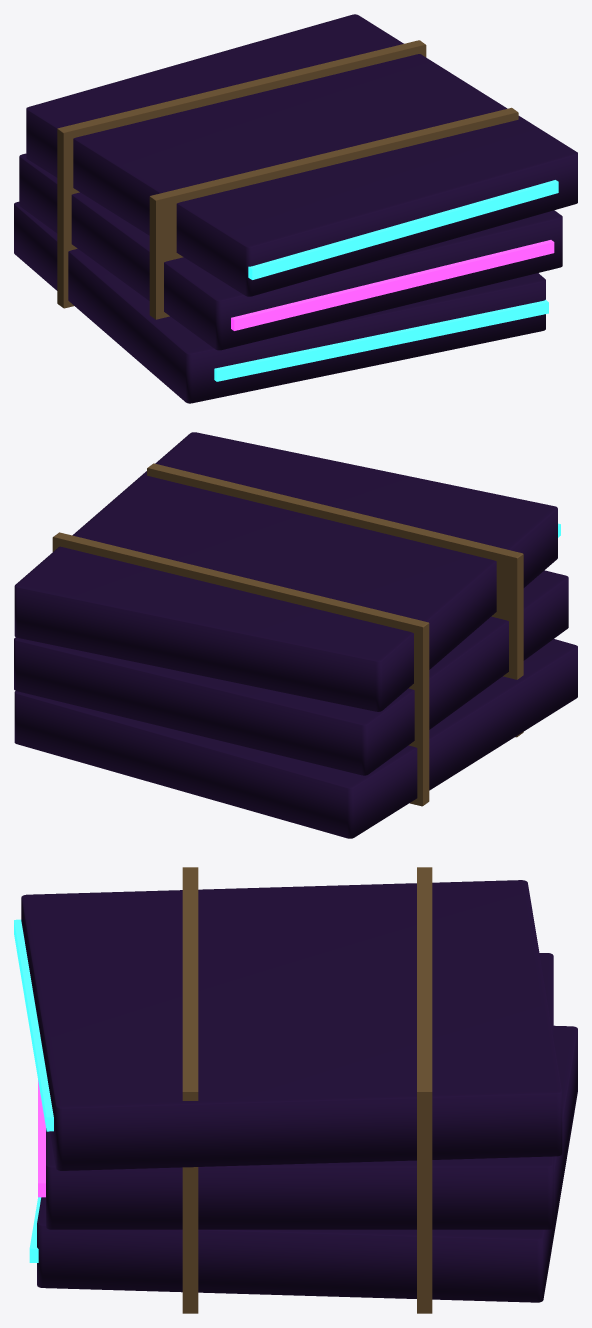
File: stoff_welten.glb
3 views of the same model, one above another, from view 1: azimuth 30°, elevation 25°; view 2: azimuth 150°, elevation 25°; view 3: azimuth 270°, elevation 25° (orthographic). The views are drawn at different scales.
Parts seen in each view (by area): view 1: Cube.004, Cube, Cube.002, Cube.007, Cube.006, Cube.001, Cube.003, Cube.005; view 2: Cube.004, Cube, Cube.002, Cube.007, Cube.006; view 3: Cube.004, Cube, Cube.002, Cube.007, Cube.006, Cube.005, Cube.003.
Boxes of the visible parts, <box> form: Cube.004: <box>26,14,577,296</box>; Cube: <box>14,201,545,403</box>; Cube.002: <box>19,153,562,350</box>; Cube.007: <box>57,40,426,308</box>; Cube.006: <box>149,107,518,319</box>; Cube.001: <box>214,299,548,381</box>; Cube.003: <box>231,240,554,330</box>; Cube.005: <box>248,180,558,279</box>; Cube.004: <box>14,432,557,711</box>; Cube: <box>14,639,577,838</box>; Cube.002: <box>14,570,568,775</box>; Cube.007: <box>52,532,429,806</box>; Cube.006: <box>147,463,523,737</box>; Cube.004: <box>21,880,562,1170</box>; Cube: <box>37,1025,577,1302</box>; Cube.002: <box>46,953,553,1229</box>; Cube.007: <box>417,867,432,1313</box>; Cube.006: <box>182,867,198,1313</box>; Cube.005: <box>14,919,53,1131</box>; Cube.003: <box>38,1080,45,1197</box>.
Size of the model in its own units: 0.2891 by 0.126 by 0.2889.
